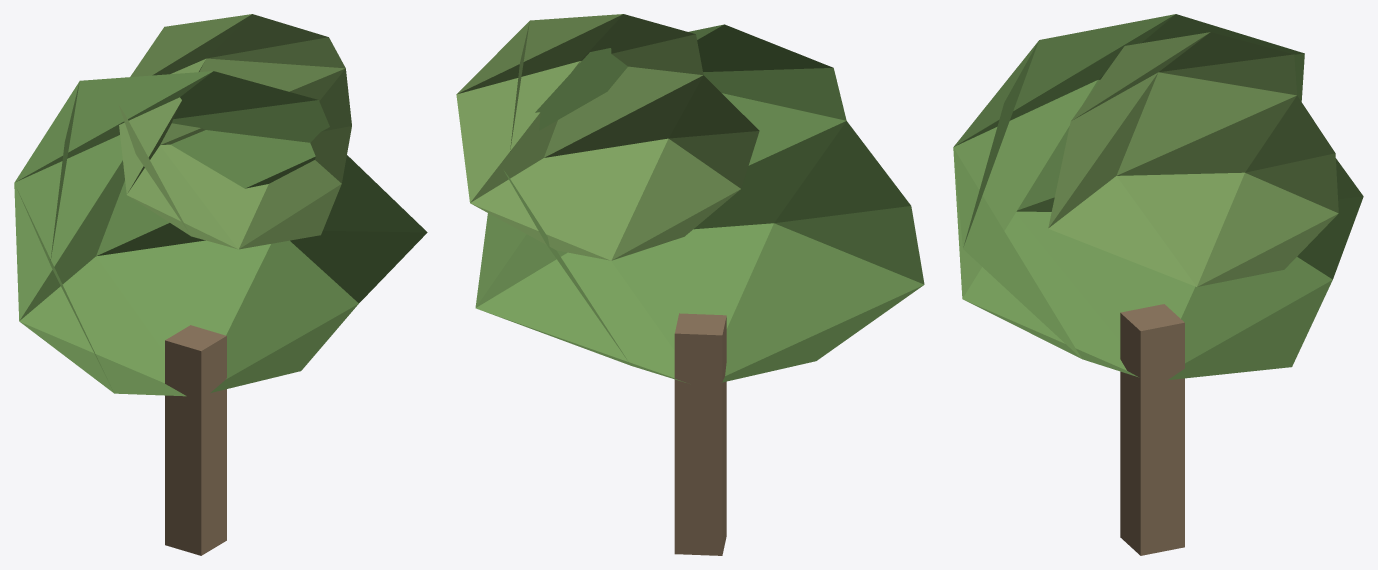
File: oak_1.glb
The picture shows the model from 3 angles, left to right: view 1: azimuth 30°, elevation 25°; view 2: azimuth 150°, elevation 25°; view 3: azimuth 270°, elevation 25°; orthographic projection. The views are drawn at different scales.
Bounding box in the file's own units: 5.14 × 6.6 × 4.64.
